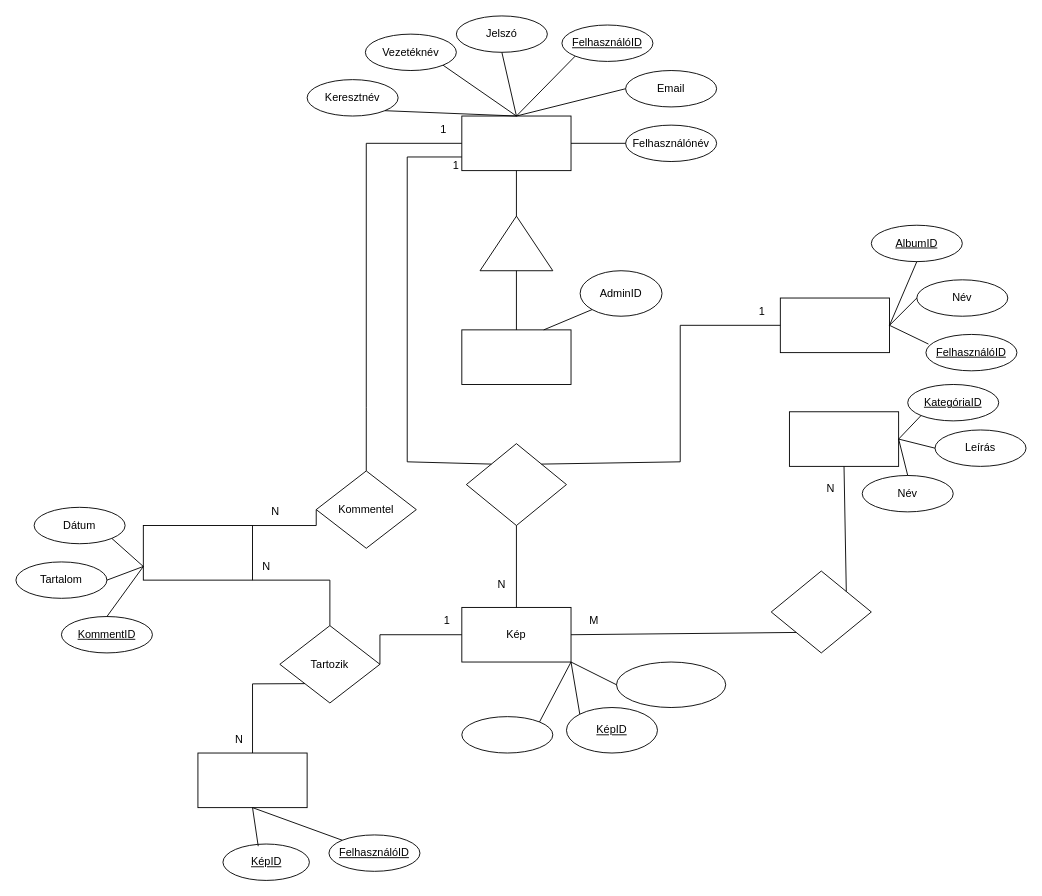
Image size: 1042x896. Some labels were removed from this diagram. Each missing label, with the box of its shape:
Admin: (461, 329, 571, 384)
Album: (779, 297, 890, 353)
Cím: (461, 716, 553, 753)
Felhasználó: (461, 115, 571, 171)
Fájl_elérési_útvonal: (616, 661, 726, 708)
Kategória: (789, 411, 899, 466)
Kategóriája: (770, 570, 871, 653)
Komment: (142, 525, 253, 580)
Like: (197, 752, 307, 808)
Létrehoz: (465, 443, 566, 526)
